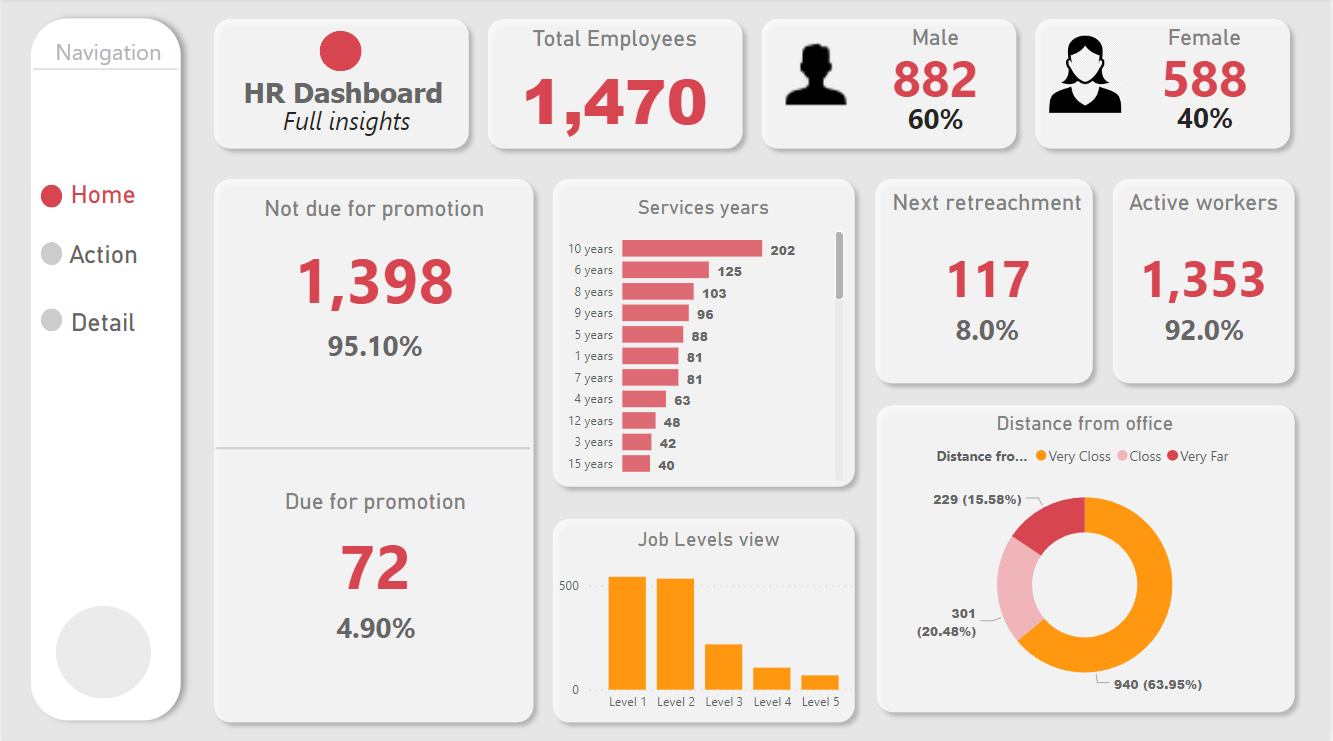

The dashboard page shown, as its layout file describes it:
{"tool":"powerbi","page":{"name":"Home","canvas":[1280,720],"ordinal":0},"visuals":[{"type":"shape","box":[16.5,9.6,166.5,699.2],"z":0},{"type":"shape","box":[195.4,12.4,264.3,143.1],"z":1000},{"type":"shape","box":[459.7,12.4,264.3,143.1],"z":2000},{"type":"shape","box":[724,12.4,264.3,143.1],"z":3000},{"type":"shape","box":[988.2,12.4,264.3,143.1],"z":4000},{"type":"shape","box":[195.4,166.5,326.2,542.3],"z":5000},{"type":"shape","box":[521.6,166.2,309.7,315.2],"z":6000},{"type":"shape","box":[521.6,494.1,309.7,214.7],"z":7000},{"type":"shape","box":[834.8,384.2,421.6,314.1],"z":8000},{"type":"shape","box":[833.6,166.7,228.3,215],"z":9000},{"type":"shape","box":[1063.1,166.7,193.3,215],"z":10000},{"type":"textbox","box":[209.7,71.2,238.7,51.4],"z":11000},{"type":"textbox","box":[36.9,33,130.5,51.4],"z":12000},{"type":"textbox","box":[209.7,97.6,251.9,55.4],"z":13000},{"type":"shape","box":[305.9,33,40.9,39.6],"z":14000},{"type":"card","title":"Total Employees","fields":{"Values":["All Measures.Total Emp"]},"box":[468,27.5,246.4,112.9],"z":15000},{"type":"card","title":"Male","fields":{"Values":["All Measures.Male"]},"box":[814.8,26.2,170.7,75.7],"z":16000},{"type":"card","fields":{"Values":["All Measures.Male %"]},"box":[834.1,90.8,132.1,55.1],"z":17000},{"type":"card","title":"Female","fields":{"Values":["All Measures.Female"]},"box":[1068.7,26.2,183.1,75.7],"z":18000},{"type":"card","fields":{"Values":["All Measures.Female %"]},"box":[1083.9,90.8,152.8,53.7],"z":19000},{"type":"image","box":[736.3,26.2,95,90.8],"z":20000},{"type":"actionButton","title":"Home","box":[27.8,176.4,140.1,30.2],"z":21000},{"type":"image","box":[1004.7,33,79.8,84],"z":22000},{"type":"actionButton","title":"Action","box":[27.7,233.4,139.8,56.7],"z":23000},{"type":"card","title":"Active workers","fields":{"Values":["All Measures.On service"]},"box":[1058.3,186,203,142.6],"z":24000},{"type":"actionButton","title":"Detail","box":[27.7,300.7,139.8,58],"z":25000},{"type":"card","fields":{"Values":["All Measures.% Active workers"]},"box":[1082.4,296,153.4,53.2],"z":26000},{"type":"card","title":"Next retreachment","fields":{"Values":["All Measures.Due for retirment"]},"box":[843.2,186,215,142.6],"z":27000},{"type":"card","fields":{"Values":["All Measures.%Due for retirment"]},"box":[865,296,171.5,53.2],"z":28000},{"type":"columnChart","title":"Job Levels view","fields":{"Category":["HR Analytics Data.Job Level"],"Y":["All Measures.Total Emp"]},"box":[531.3,512,300,185.8],"z":29000},{"type":"barChart","title":"Services years","fields":{"Category":["HR Analytics Data.Total working Years"],"Y":["All Measures.Total Emp"]},"box":[536.4,192.1,280.3,280.3],"z":30000},{"type":"donutChart","title":"Distance from office","fields":{"Category":["HR Analytics Data.Distance from office"],"Y":["All Measures.Total Emp"]},"box":[840.8,399.9,408.3,282.7],"z":31000},{"type":"card","title":"Not due for promotion","fields":{"Values":["All Measures.Not Due"]},"box":[207.8,192.1,303.2,130.5],"z":32000},{"type":"card","title":"Due for promotion","fields":{"Values":["All Measures.Due for promotion"]},"box":[209,473.8,303.2,119.6],"z":33000},{"type":"shape","box":[206.6,427.7,303.2,14.5],"z":34000},{"type":"card","fields":{"Values":["All Measures.% Not due for promotion"]},"box":[283.5,309.7,152.8,53.7],"z":35000},{"type":"card","fields":{"Values":["All Measures.% Due for promotion"]},"box":[285.1,582.5,152.2,53.2],"z":36000},{"type":"shape","box":[36.9,180.7,21.1,22.4],"z":37000},{"type":"shape","box":[36.9,236,21.1,22.4],"z":38000},{"type":"shape","box":[36.9,300.7,21.1,22.4],"z":39000},{"type":"shape","box":[51.4,586.8,92.3,89.7],"z":40000},{"type":"shape","box":[30.2,61.6,140.1,15.7],"z":41000}]}

Visuals, with their boxes in screenshot pixels (x1, y1, x2, y2), scaled from the page's 1280x720 canvas onto the 1333x741 screenshot:
shape: box(17, 10, 191, 729)
shape: box(203, 13, 479, 160)
shape: box(479, 13, 754, 160)
shape: box(754, 13, 1029, 160)
shape: box(1029, 13, 1304, 160)
shape: box(203, 171, 543, 729)
shape: box(543, 171, 866, 495)
shape: box(543, 509, 866, 729)
shape: box(869, 395, 1308, 719)
shape: box(868, 172, 1106, 393)
shape: box(1107, 172, 1308, 393)
textbox: box(218, 73, 467, 126)
textbox: box(38, 34, 174, 87)
textbox: box(218, 100, 481, 157)
shape: box(319, 34, 361, 75)
"Total Employees" card: box(487, 28, 744, 144)
"Male" card: box(849, 27, 1026, 105)
card - All Measures.Male %: box(869, 93, 1006, 150)
"Female" card: box(1113, 27, 1304, 105)
card - All Measures.Female %: box(1129, 93, 1288, 149)
image: box(767, 27, 866, 120)
"Home" actionButton: box(29, 182, 175, 213)
image: box(1046, 34, 1129, 120)
"Action" actionButton: box(29, 240, 174, 299)
"Active workers" card: box(1102, 191, 1314, 338)
"Detail" actionButton: box(29, 309, 174, 369)
card - All Measures.% Active workers: box(1127, 305, 1287, 359)
"Next retreachment" card: box(878, 191, 1102, 338)
card - All Measures.%Due for retirment: box(901, 305, 1079, 359)
"Job Levels view" columnChart: box(553, 527, 866, 718)
"Services years" barChart: box(559, 198, 851, 486)
"Distance from office" donutChart: box(876, 412, 1301, 703)
"Not due for promotion" card: box(216, 198, 532, 332)
"Due for promotion" card: box(218, 488, 533, 611)
shape: box(215, 440, 531, 455)
card - All Measures.% Not due for promotion: box(295, 319, 454, 374)
card - All Measures.% Due for promotion: box(297, 599, 455, 654)
shape: box(38, 186, 60, 209)
shape: box(38, 243, 60, 266)
shape: box(38, 309, 60, 333)
shape: box(54, 604, 150, 696)
shape: box(31, 63, 177, 80)
